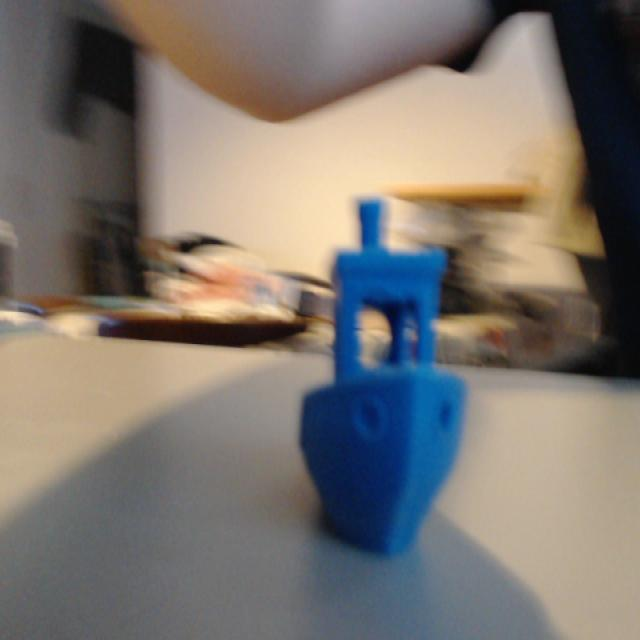benchy: (296, 193, 470, 556)
